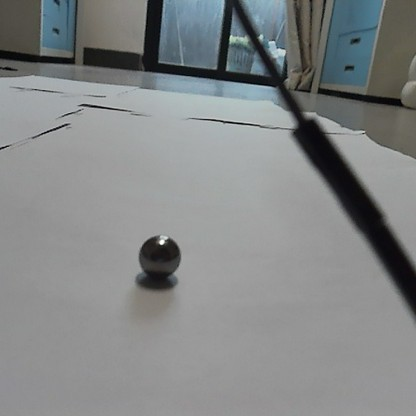ironball: (138, 229, 182, 279)
